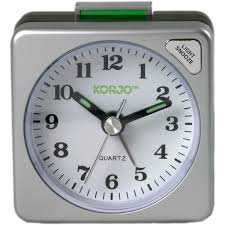alarm_clock: (6, 1, 221, 223), (6, 1, 220, 192)
